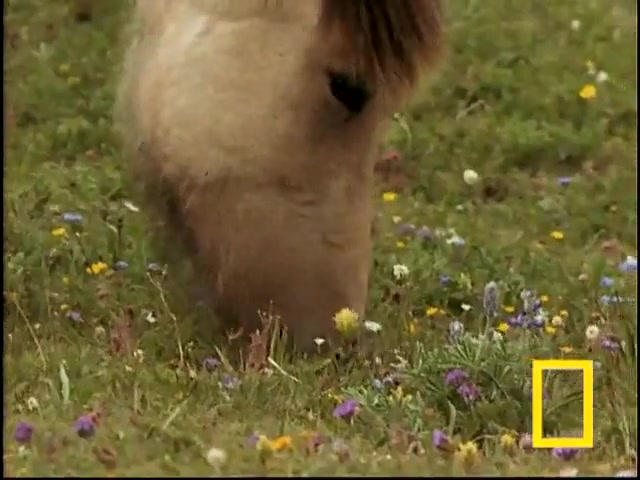horse: (111, 3, 449, 366)
